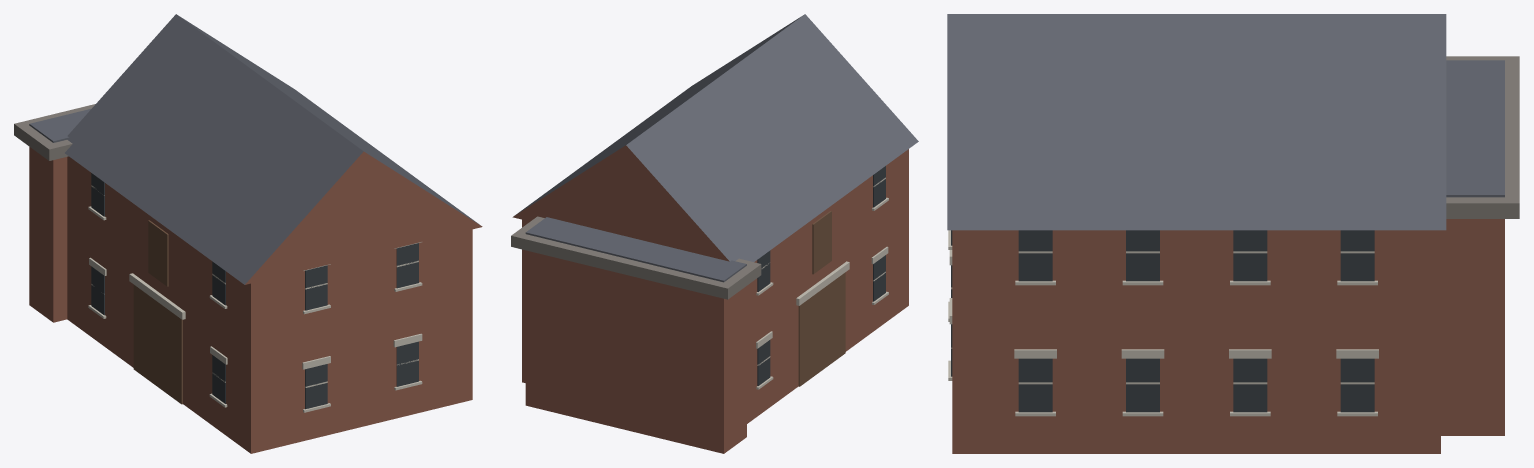
File: rothschild_house_2112_prairie_coach_house__draft_1904.glb
3 renders of one model, left to right at view 1: azimuth 30°, elevation 25°; view 2: azimuth 150°, elevation 25°; view 3: azimuth 270°, elevation 25°, orthographic. The views are drawn at different scales.
Parts seen in each view (by area): view 1: rothschild_house_2112_prairie_coach_house__draft_1904; view 2: rothschild_house_2112_prairie_coach_house__draft_1904; view 3: rothschild_house_2112_prairie_coach_house__draft_1904.
Part boxes in pixels (left/top/right/bottom): rothschild_house_2112_prairie_coach_house__draft_1904: left=14, top=14, right=482, bottom=453; rothschild_house_2112_prairie_coach_house__draft_1904: left=511, top=14, right=918, bottom=453; rothschild_house_2112_prairie_coach_house__draft_1904: left=947, top=14, right=1519, bottom=453.
Bounding box in the file's own units: 9.15 × 9.56 × 13.47.
